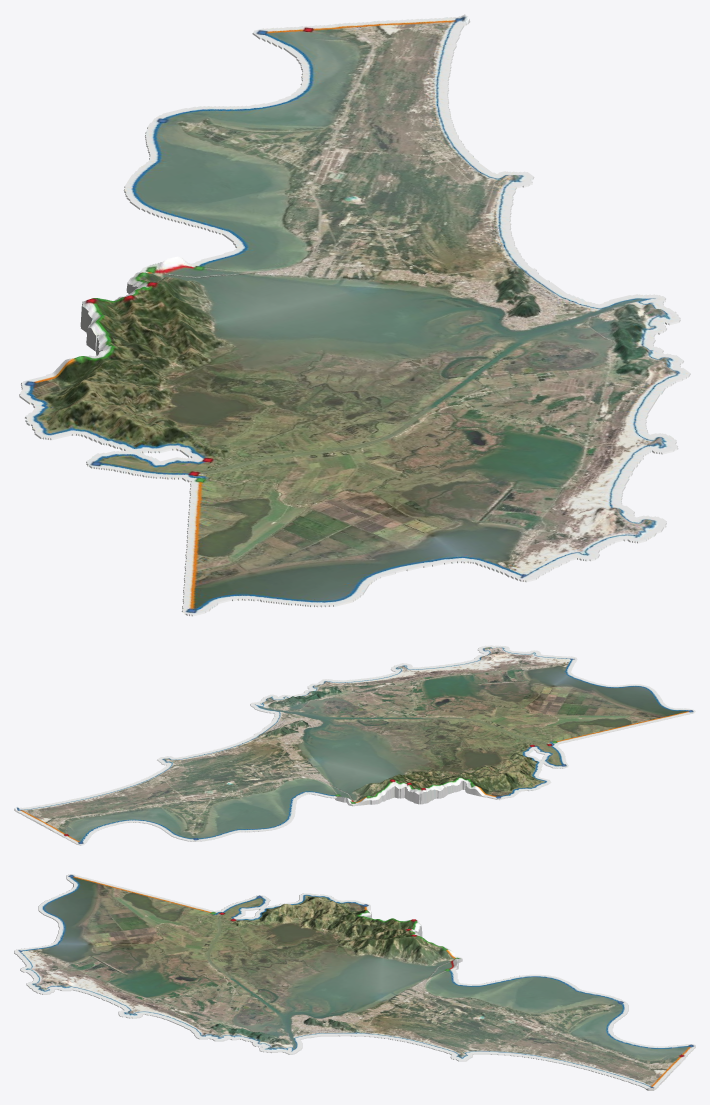
3 renders of one model, top to bottom at view 1: azimuth 30°, elevation 25°; view 2: azimuth 150°, elevation 25°; view 3: azimuth 270°, elevation 25°, orthographic. The views are drawn at different scales.
Bounding box in the file's own units: 0.9995 × 0.0327 × 1.33.
1 material, 1 textured.
